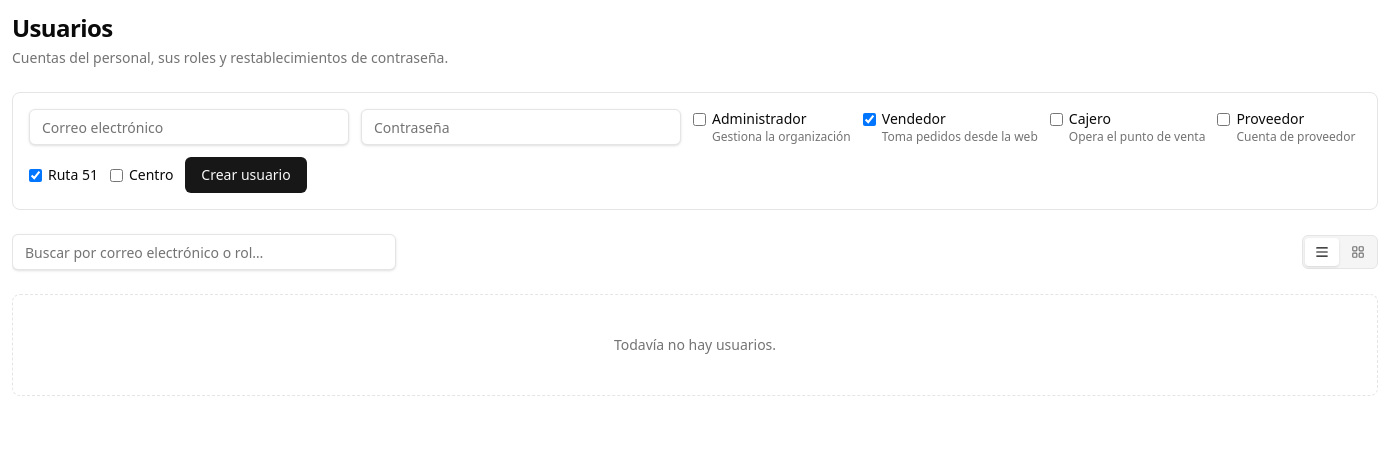
Test: UsersScreen › creates a user with the selected branch from the always-visible create form and refreshes the list
This screenshot has width=1390, height=466.
Check: the text "Todavía no hay usuarios." is shown, box x1=12 y1=294 x2=1378 y2=396
Type "staff@example.com" into the field named "Correo electrónico del usuario" at (189, 127), box x1=29 y1=109 x2=349 y2=145
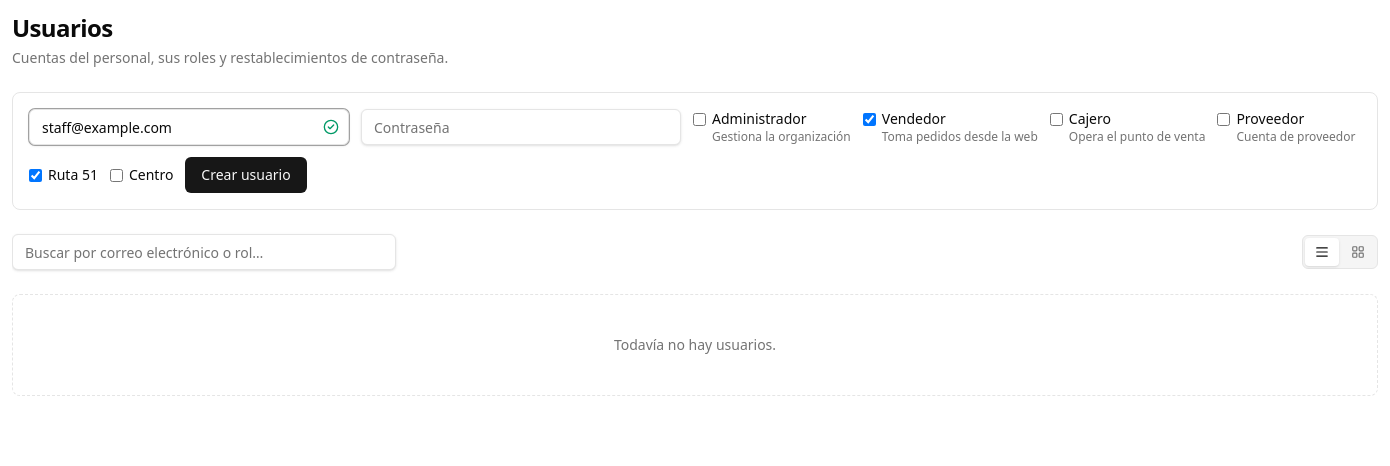
Type "correct-horse-battery-staple" into the password field named "Contraseña del usuario" at (521, 127), box x1=361 y1=109 x2=681 y2=145
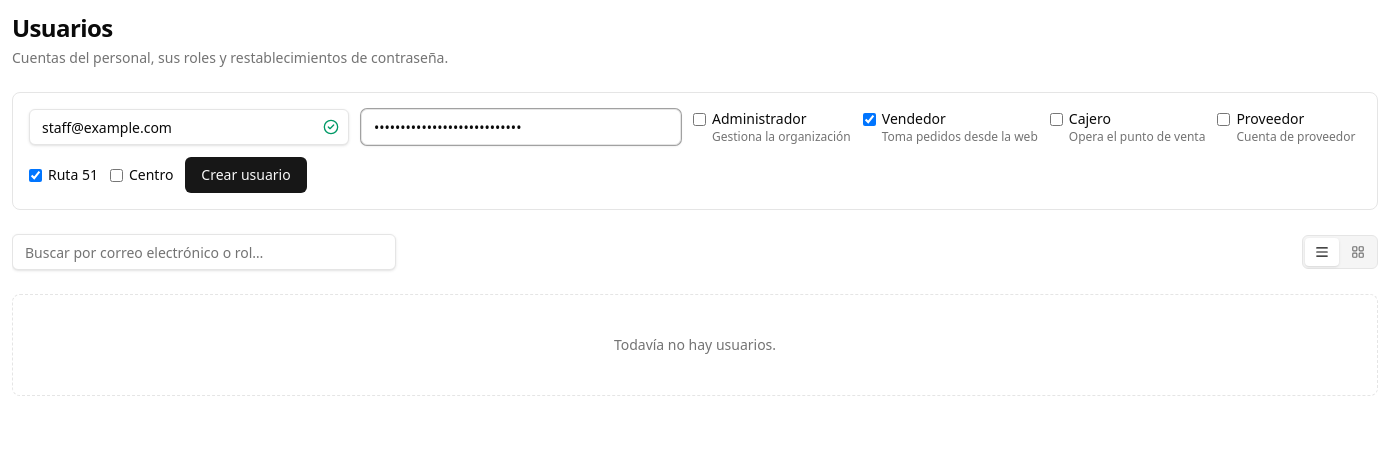
Click the button "Crear usuario" at (246, 175), box x1=185 y1=157 x2=307 y2=193
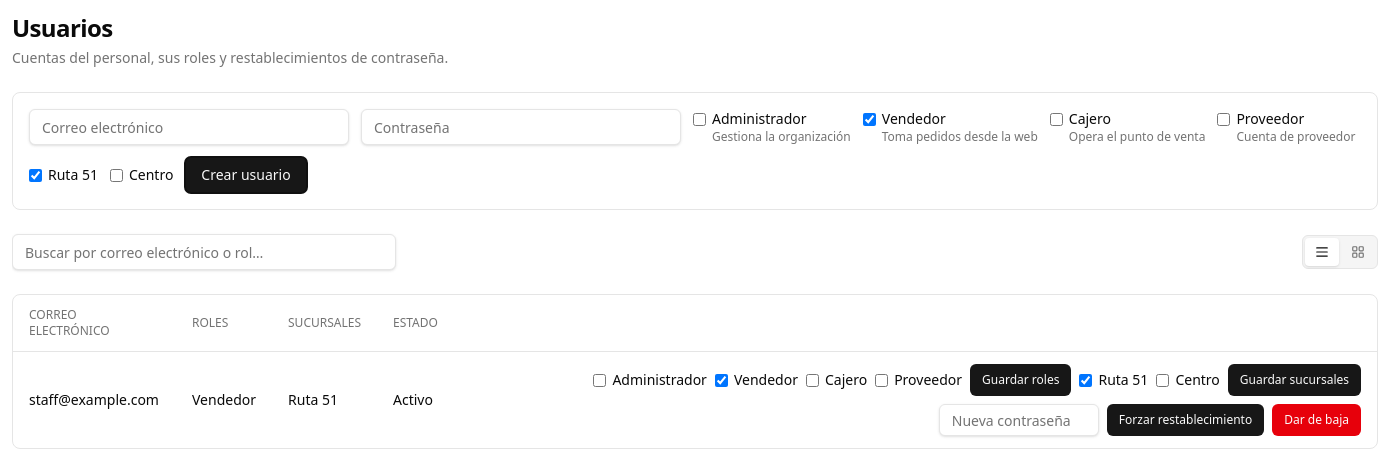
Check: the text "staff@example.com" is shown, box x1=13 y1=352 x2=176 y2=448
